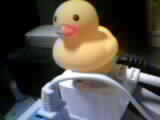duck: (51, 5, 113, 74)
